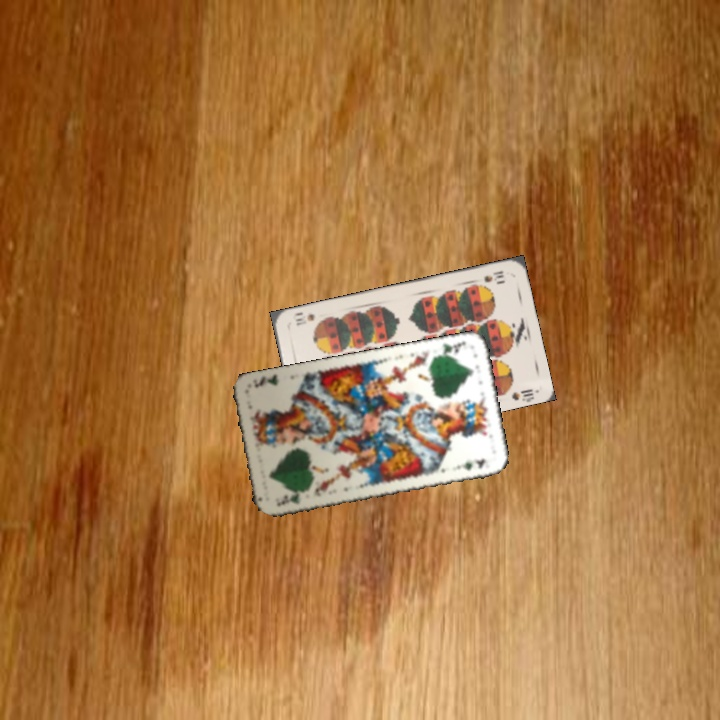GK: (432, 337, 468, 359), (271, 488, 307, 510)
S10: (480, 267, 507, 285)
